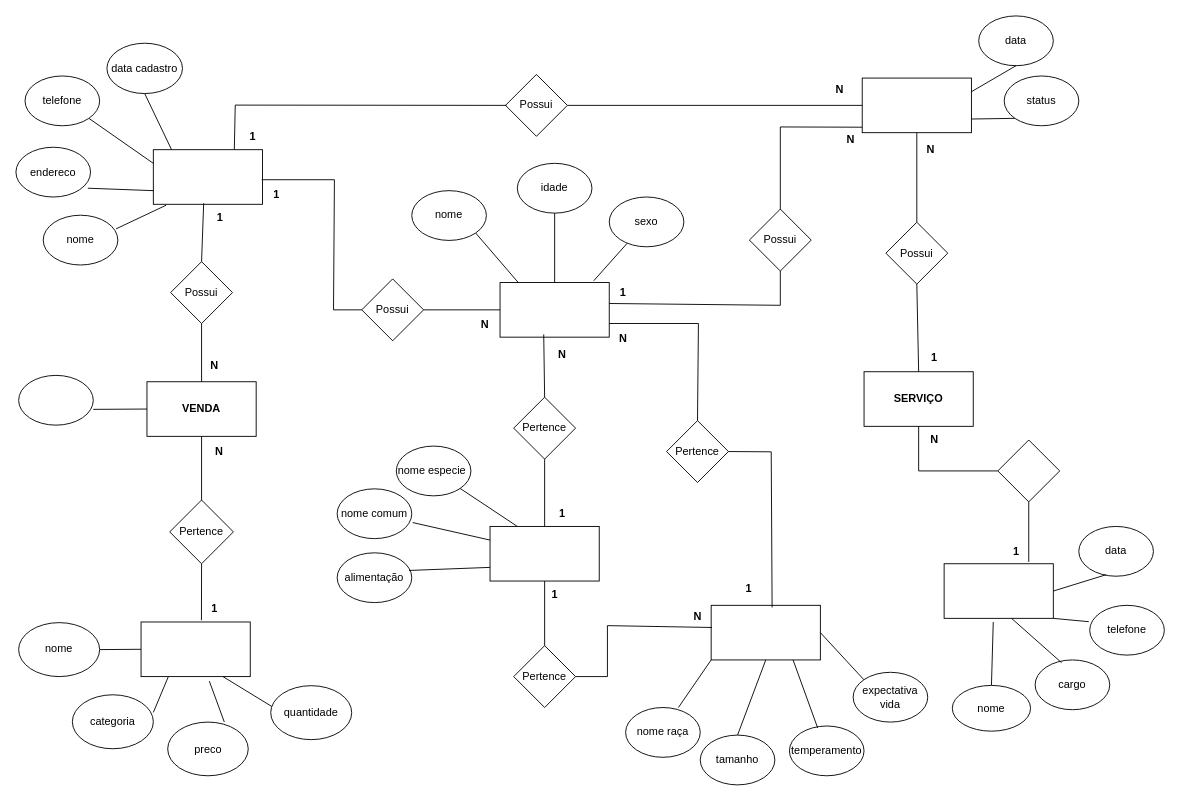
Some shapes in this 1180 by 801 pixel diagram are drawn without their labels. Each missing label, with the centre of its shape:
AGENDAMENTO: the point at 916,105
CLIENTE: the point at 207,176
data venda: the point at 55,399
ESPECIE: the point at 544,553
FUNCIONARIO: the point at 998,590
PET: the point at 554,309
PRODUTO: the point at 195,649
RAÇA: the point at 765,632
Realiza: the point at 1028,470
